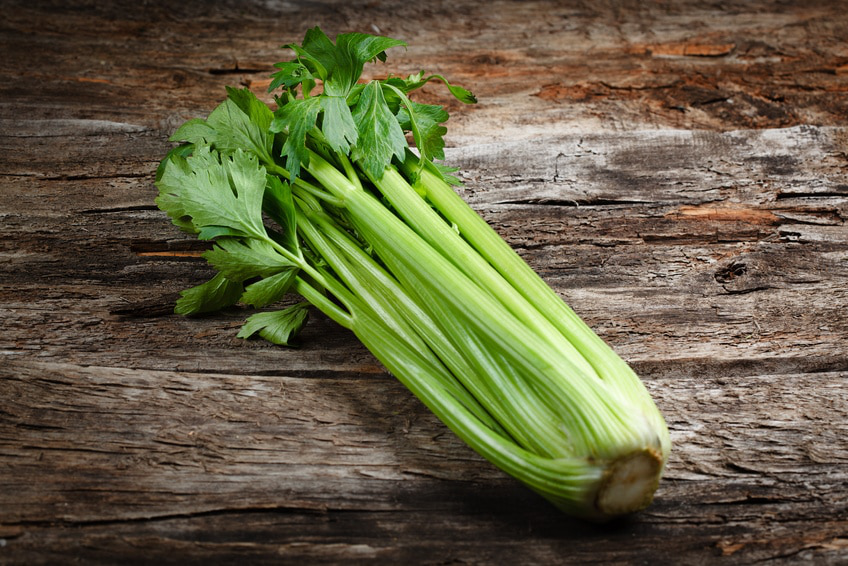Seledri: (148, 74, 701, 525)
